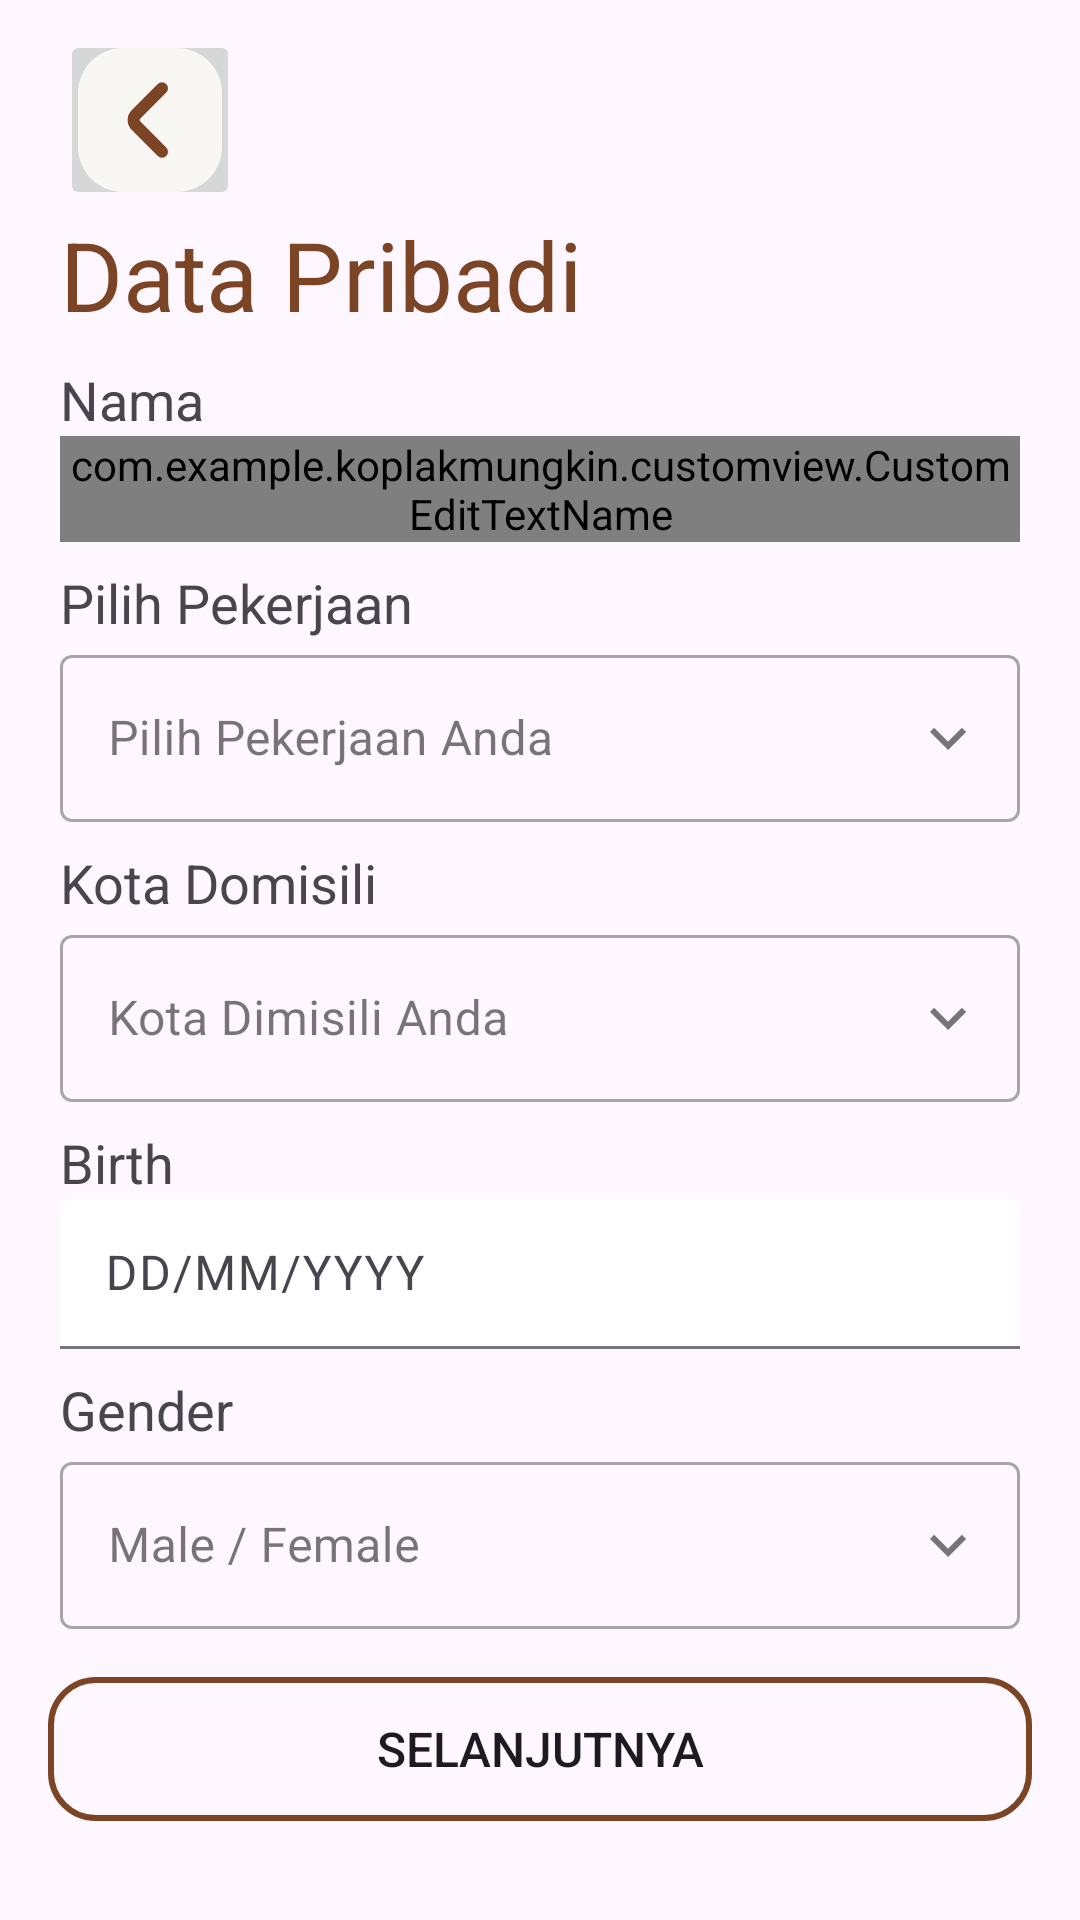

Named icons in this screenshot (1080 x 1920) and their centers, (x=x, y=y):
Kembali: (x=150, y=120)
